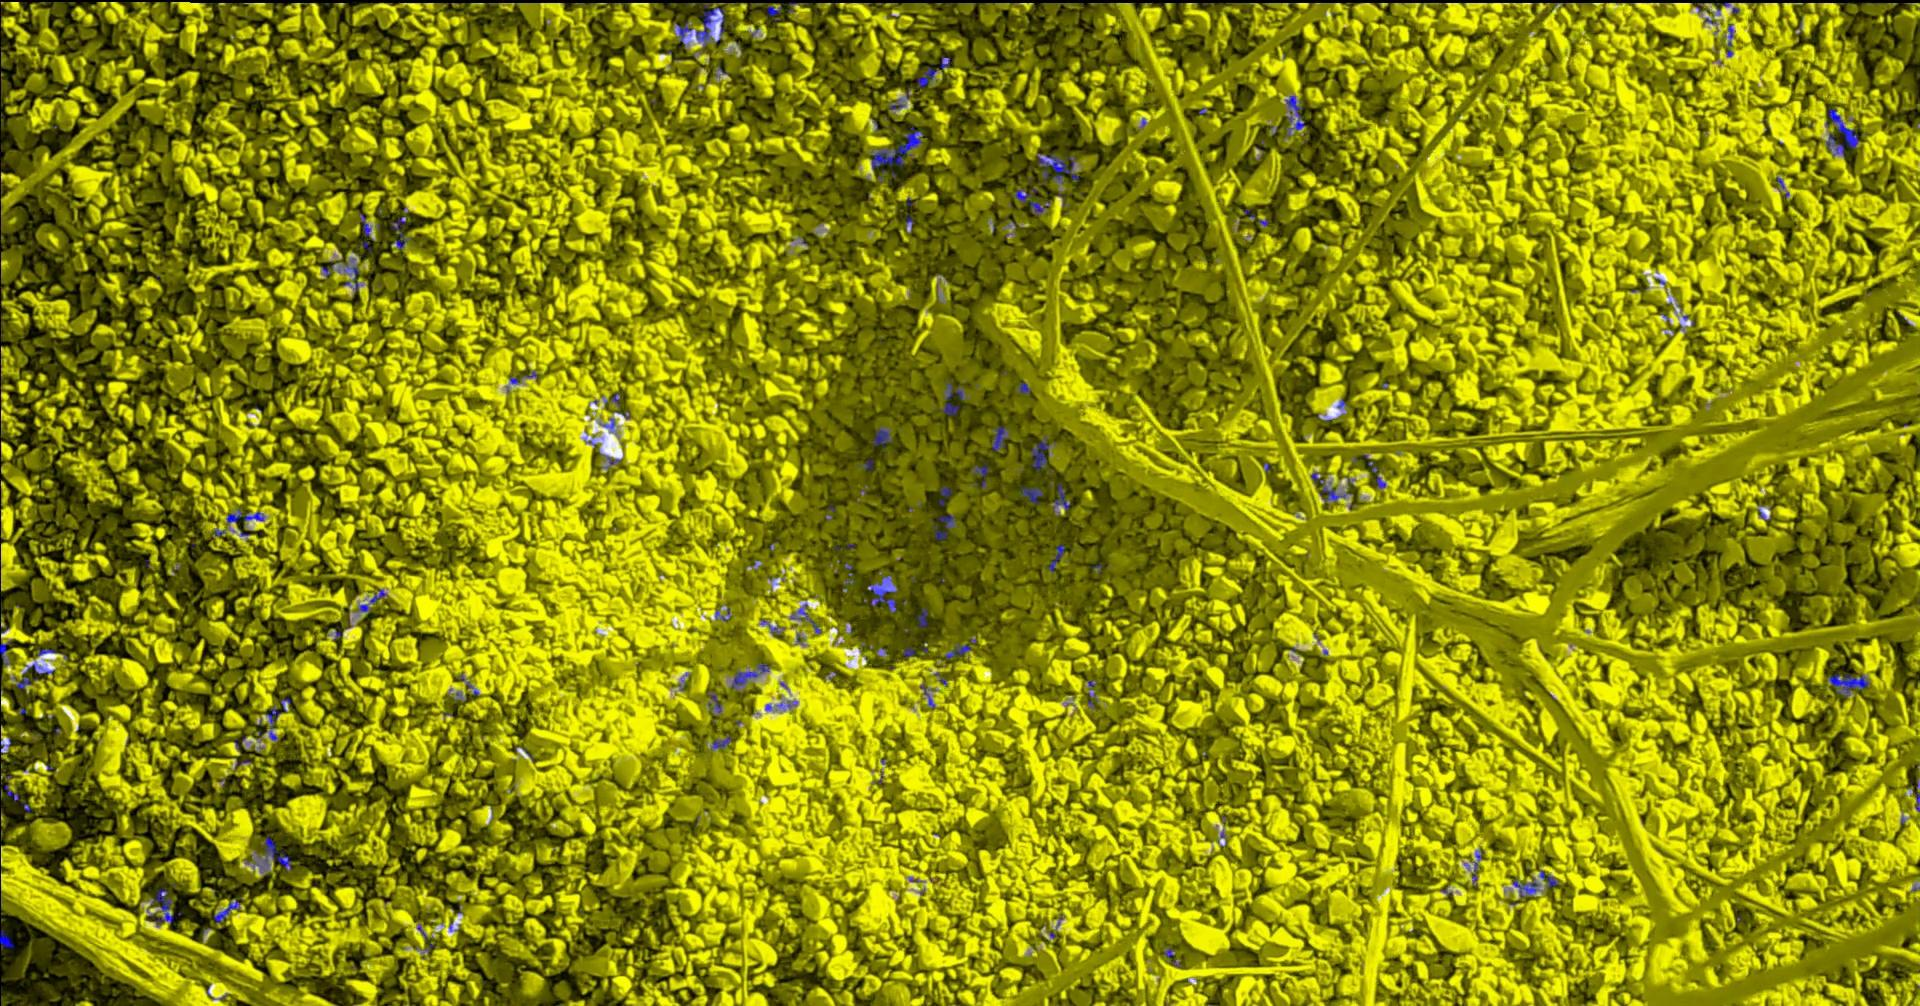ant: (869, 126, 923, 169), (1825, 108, 1858, 158), (695, 3, 725, 51), (1037, 152, 1079, 183), (863, 574, 897, 612), (259, 835, 291, 871), (1310, 473, 1345, 503), (730, 662, 768, 688), (15, 663, 55, 688), (1013, 187, 1049, 215), (149, 887, 173, 926), (1829, 673, 1869, 696), (1284, 95, 1304, 137), (212, 895, 243, 923), (940, 381, 964, 415), (257, 706, 281, 739), (790, 608, 822, 633), (3, 784, 30, 810), (391, 215, 411, 249), (1030, 434, 1050, 469), (943, 638, 977, 658), (358, 588, 385, 611), (933, 513, 956, 539), (226, 508, 263, 523), (1051, 483, 1070, 512), (1512, 876, 1538, 897), (1048, 542, 1064, 573), (343, 263, 361, 291), (610, 392, 629, 418), (990, 426, 1010, 451), (971, 461, 988, 488), (916, 66, 937, 86), (872, 426, 891, 447), (1018, 486, 1043, 503), (676, 22, 691, 47), (1470, 848, 1481, 887), (842, 561, 855, 591), (1163, 948, 1181, 967), (1539, 870, 1557, 887), (1087, 680, 1097, 708), (0, 929, 14, 949), (710, 735, 731, 748), (707, 694, 721, 713), (766, 5, 781, 22), (938, 486, 951, 506), (359, 213, 370, 236), (916, 607, 927, 627), (0, 640, 9, 666), (1726, 23, 1732, 56), (1015, 381, 1031, 394), (1914, 779, 1919, 810)
